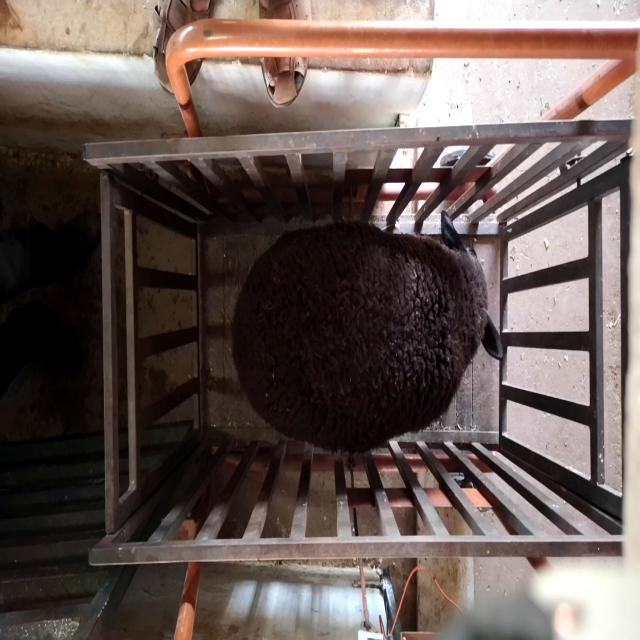sheep: (230, 211, 504, 453)
